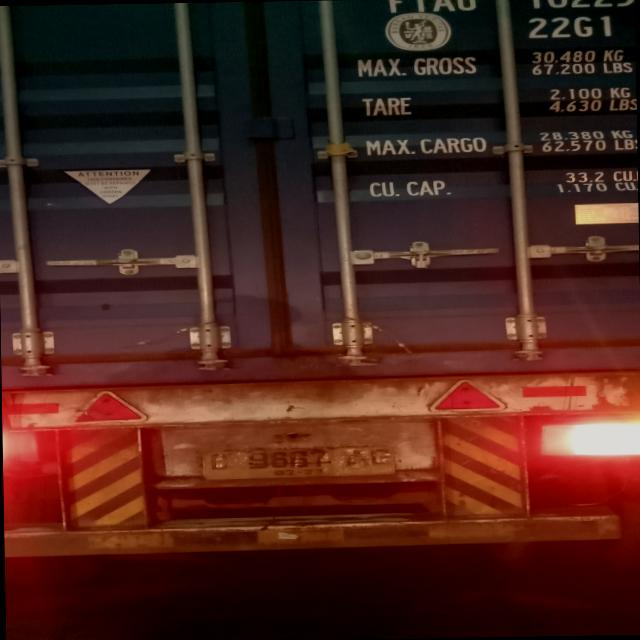seal: (412, 248, 430, 268)
